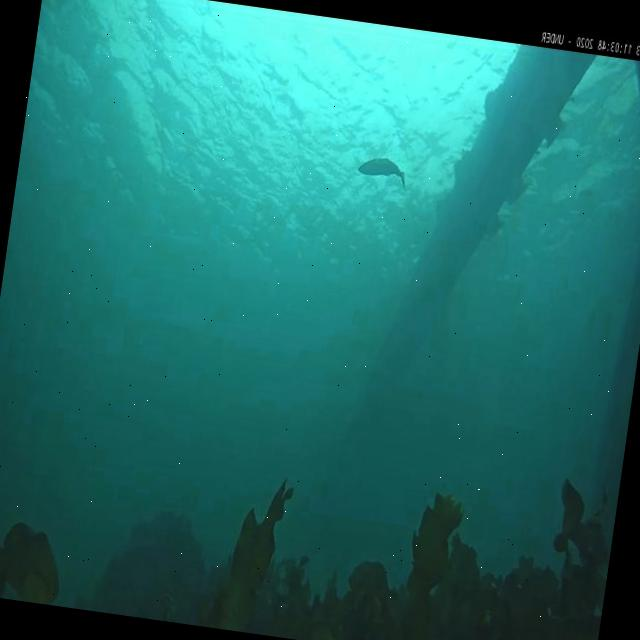fish: (356, 150, 409, 183)
